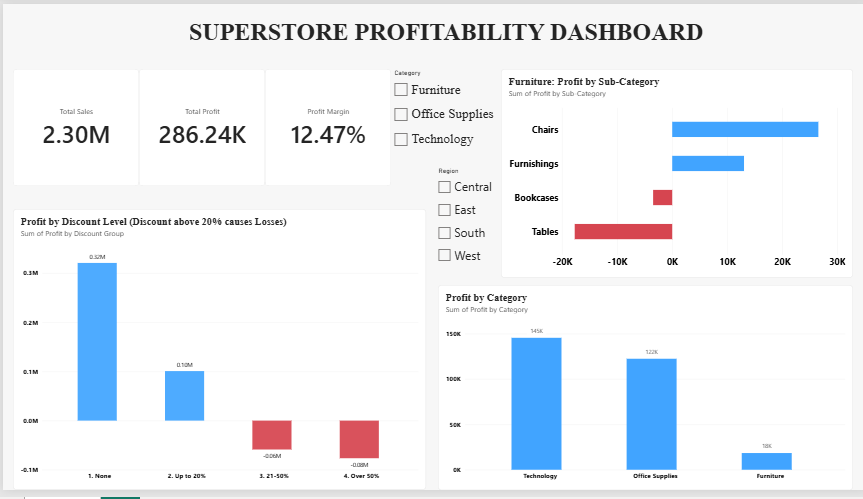

The dashboard page shown, as its layout file describes it:
{"tool":"powerbi","page":{"name":"Page 1","canvas":[1920,1080],"ordinal":0},"visuals":[{"type":"cardVisual","fields":{"Data":["superstore_cleaned.Total Sales"]},"box":[22.2,144.4,280,260],"z":0},{"type":"cardVisual","fields":{"Data":["superstore_cleaned.Total Profit"]},"box":[302.2,144.4,280,260],"z":1000},{"type":"cardVisual","fields":{"Data":["superstore_cleaned.profit margin"]},"box":[582.2,144.4,280,260],"z":2000},{"type":"lineClusteredColumnComboChart","title":"Profit by Category","fields":{"Category":["superstore_cleaned.Category"],"Y":["Sum(superstore_cleaned.Profit)"]},"box":[966.7,624.4,922.2,455.6],"z":3000},{"type":"clusteredBarChart","title":"Furniture: Profit by Sub-Category","fields":{"Category":["superstore_cleaned.Sub-Category"],"Y":["Sum(superstore_cleaned.Profit)"]},"box":[1106.7,144.4,782.2,464.4],"z":4000},{"type":"clusteredColumnChart","title":"Profit by Discount Level (Discount above 20% causes Losses)","fields":{"Category":["superstore_cleaned.Discount Group"],"Y":["Sum(superstore_cleaned.Profit)"]},"box":[22.2,455.6,917.8,624.4],"z":5000},{"type":"slicer","fields":{"Values":["superstore_cleaned.Region"]},"box":[960,362.2,177.5,292.5],"z":6000},{"type":"slicer","fields":{"Values":["superstore_cleaned.Category"]},"box":[862.2,144.4,244.4,217.8],"z":7000},{"type":"textbox","box":[0,31.1,1920,113.3],"z":8000}]}

Visuals, with their boxes in screenshot pixels (x1, y1, x2, y2), scaled from the page's 1920x1080 canvas onto the 863x499 screenshot:
cardVisual - superstore_cleaned.Total Sales: <region>10, 67, 136, 187</region>
cardVisual - superstore_cleaned.Total Profit: <region>136, 67, 262, 187</region>
cardVisual - superstore_cleaned.profit margin: <region>262, 67, 388, 187</region>
"Profit by Category" lineClusteredColumnComboChart: <region>435, 288, 849, 498</region>
"Furniture: Profit by Sub-Category" clusteredBarChart: <region>497, 67, 849, 281</region>
"Profit by Discount Level (Discount above 20% causes Losses)" clusteredColumnChart: <region>10, 211, 423, 498</region>
slicer - superstore_cleaned.Region: <region>432, 167, 511, 302</region>
slicer - superstore_cleaned.Category: <region>388, 67, 497, 167</region>
textbox: <region>0, 14, 862, 67</region>
